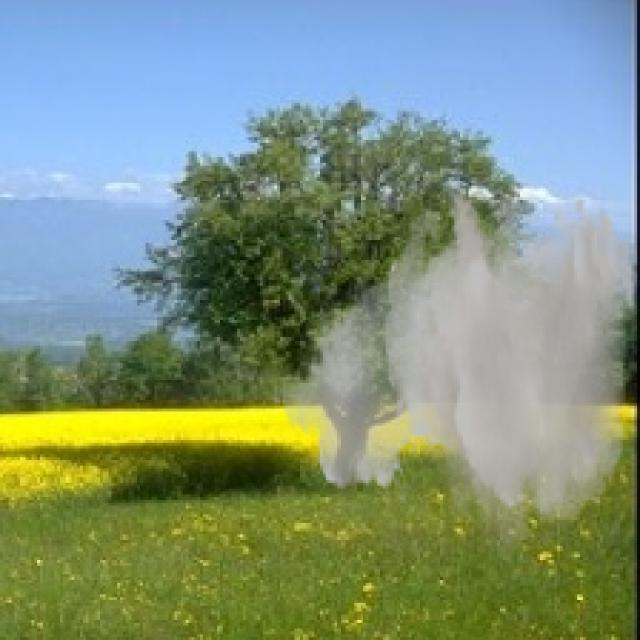Smoke: (272, 188, 637, 572)
